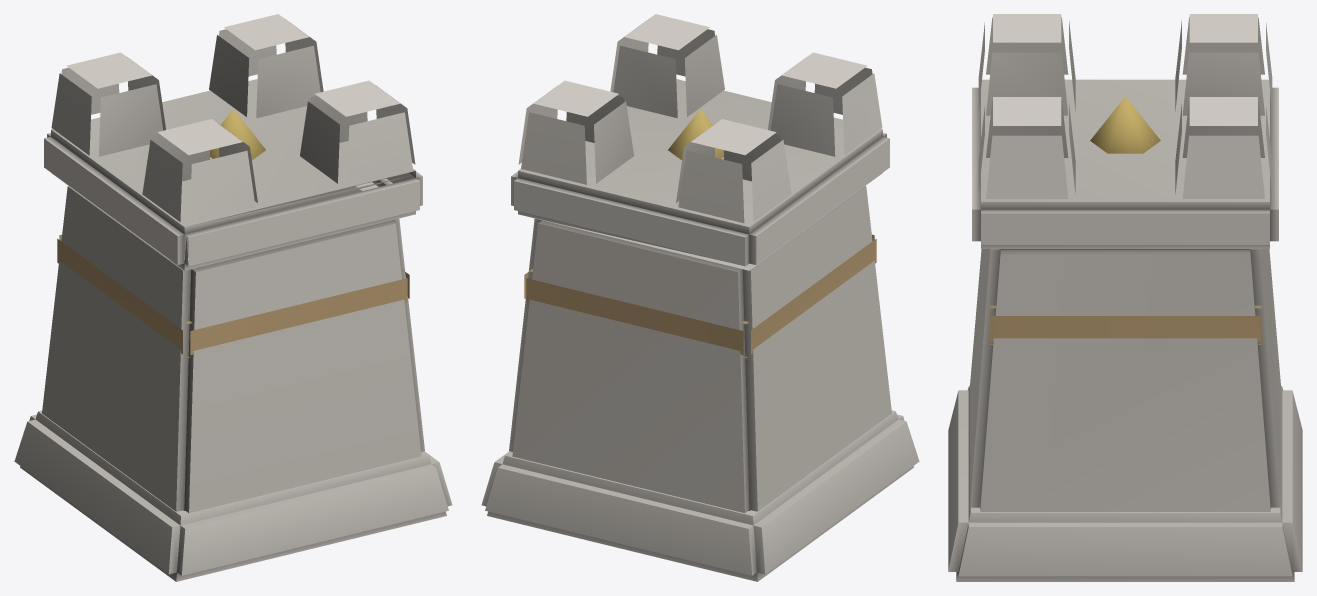
Rendered from wall_pillar_lod1.glb.
3 views of the same model, side by side, from view 1: azimuth 30°, elevation 25°; view 2: azimuth 150°, elevation 25°; view 3: azimuth 270°, elevation 25° (orthographic). The views are drawn at different scales.
Parts seen in each view (by area): view 1: wall_pillar.001; view 2: wall_pillar.001; view 3: wall_pillar.001.
Part boxes in pixels (box(x1,y1,x2,y2)): wall_pillar.001: box(14, 14, 452, 581); wall_pillar.001: box(481, 14, 919, 581); wall_pillar.001: box(948, 14, 1302, 581).
Bounding box in the file's own units: 1.23 × 1.68 × 1.23.
